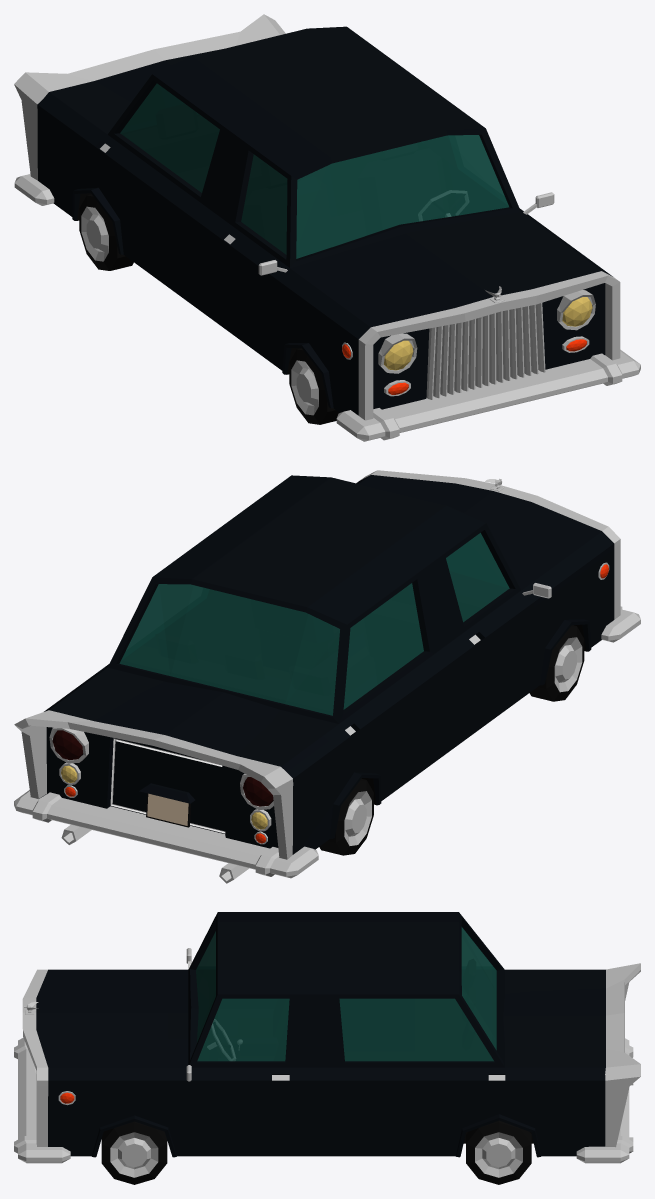
Rendered from Sedan_06.FBX.
3 views of the same model, one above another, from view 1: azimuth 30°, elevation 25°; view 2: azimuth 150°, elevation 25°; view 3: azimuth 270°, elevation 25° (orthographic). The views are drawn at different scales.
Visible parts, largest first — view 1: Sedan_06, interior, grill, bumper_f, wheel_b_r, wheel_f_r, lights, headLights, bumper_b; view 2: Sedan_06, interior, bumper_b, wheel_b_r, wheel_f_r, lights, tailLights, licensePlate_b, bumper_f; view 3: Sedan_06, interior, wheel_b_l, wheel_f_l, bumper_f, bumper_b.
Part boxes in pixels (left/top/right/bottom): Sedan_06: left=14, top=14, right=620, bottom=420; interior: left=120, top=84, right=508, bottom=258; grill: left=426, top=303, right=545, bottom=399; bumper_f: left=336, top=349, right=640, bottom=441; wheel_b_r: left=79, top=194, right=133, bottom=270; wheel_f_r: left=289, top=348, right=339, bottom=424; lights: left=342, top=290, right=595, bottom=396; headLights: left=384, top=297, right=592, bottom=370; bumper_b: left=14, top=174, right=54, bottom=205; Sedan_06: left=14, top=470, right=620, bottom=859; interior: left=119, top=533, right=509, bottom=715; bumper_b: left=14, top=790, right=318, bottom=878; wheel_b_r: left=319, top=778, right=373, bottom=855; wheel_f_r: left=529, top=625, right=584, bottom=701; lights: left=49, top=562, right=609, bottom=844; tailLights: left=52, top=730, right=273, bottom=806; licensePlate_b: left=146, top=793, right=190, bottom=827; bumper_f: left=601, top=606, right=640, bottom=642; Sedan_06: left=22, top=912, right=640, bottom=1157; interior: left=196, top=927, right=496, bottom=1061; wheel_b_l: left=466, top=1120, right=531, bottom=1184; wheel_f_l: left=101, top=1121, right=167, bottom=1184; bumper_f: left=14, top=1037, right=70, bottom=1163; bumper_b: left=576, top=1038, right=633, bottom=1163.
Bounding box in the file's own units: 28.73 × 19.81 × 61.1.
